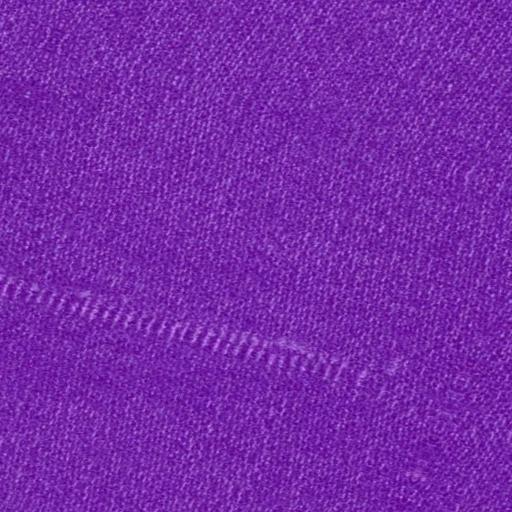slub: (0, 266, 377, 395)
